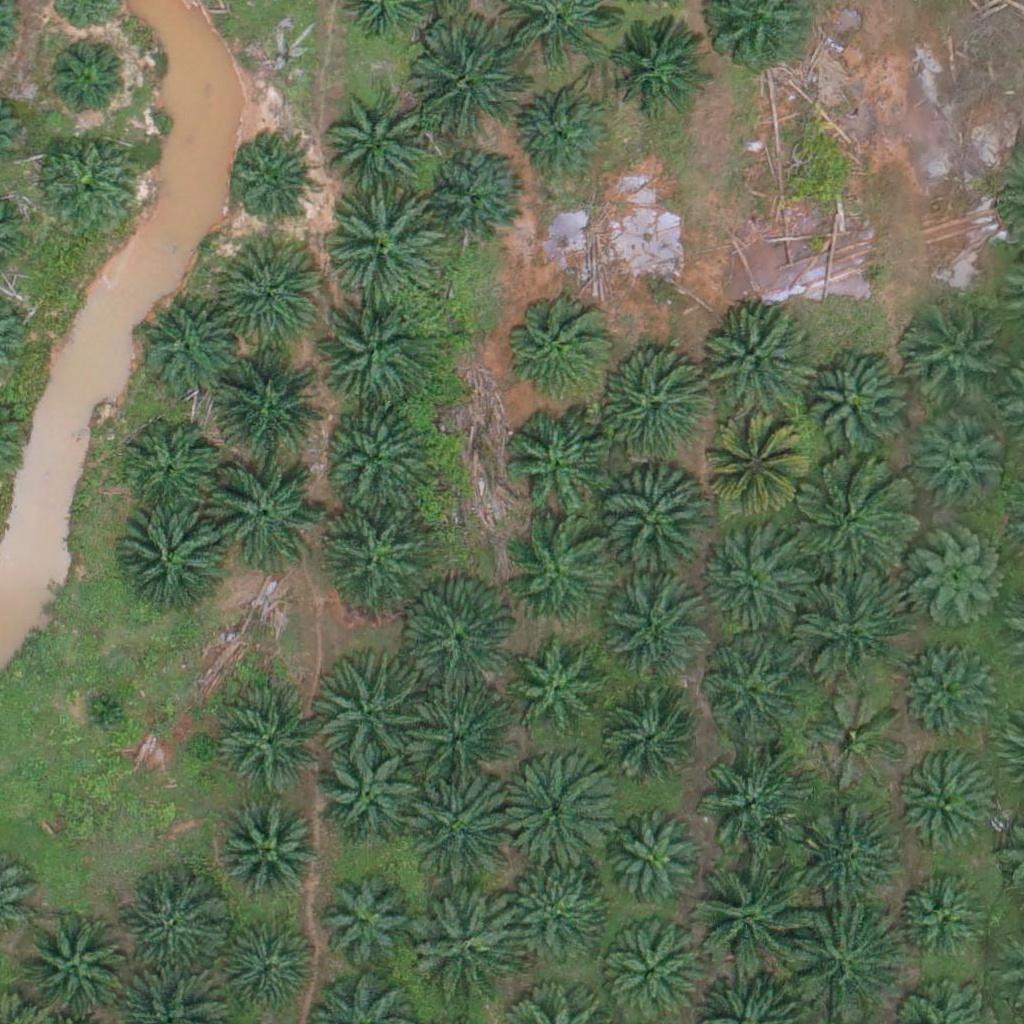Kelapa_Sawit: (498, 753, 611, 867), (407, 769, 520, 883), (324, 396, 437, 510), (412, 24, 525, 138), (315, 301, 428, 415), (213, 237, 326, 351), (788, 794, 901, 907), (792, 574, 905, 687), (796, 462, 909, 575), (690, 863, 803, 976), (599, 469, 712, 582), (501, 411, 614, 524), (412, 887, 525, 1000), (112, 508, 225, 621), (795, 350, 908, 463), (788, 908, 900, 1022), (504, 516, 616, 630), (502, 288, 614, 402), (212, 345, 324, 459), (696, 742, 808, 855), (405, 591, 517, 704), (316, 499, 428, 612), (316, 647, 428, 760), (204, 456, 316, 569), (18, 910, 130, 1023), (895, 301, 1007, 414), (698, 307, 810, 420), (588, 351, 700, 464), (326, 78, 438, 191), (330, 192, 442, 305), (899, 639, 999, 740), (896, 755, 996, 856), (697, 528, 797, 629), (699, 640, 799, 741), (605, 585, 705, 686), (506, 640, 606, 741), (317, 875, 417, 976), (318, 745, 418, 846), (119, 418, 219, 519), (422, 145, 522, 246), (38, 130, 138, 231), (138, 298, 238, 399), (902, 534, 1002, 634), (808, 690, 908, 790), (703, 422, 803, 522), (597, 699, 697, 799), (508, 872, 608, 972), (408, 688, 508, 788), (219, 696, 319, 796), (220, 805, 320, 905), (220, 921, 320, 1021), (122, 881, 222, 981), (608, 18, 708, 118), (511, 91, 611, 191), (610, 819, 698, 908), (898, 880, 986, 968), (915, 424, 1002, 512), (226, 131, 313, 219), (45, 33, 132, 121), (77, 683, 127, 734)
